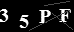3: (1, 8, 8, 23)
5: (18, 13, 30, 29)
F: (57, 8, 72, 23)
P: (37, 9, 51, 24)
